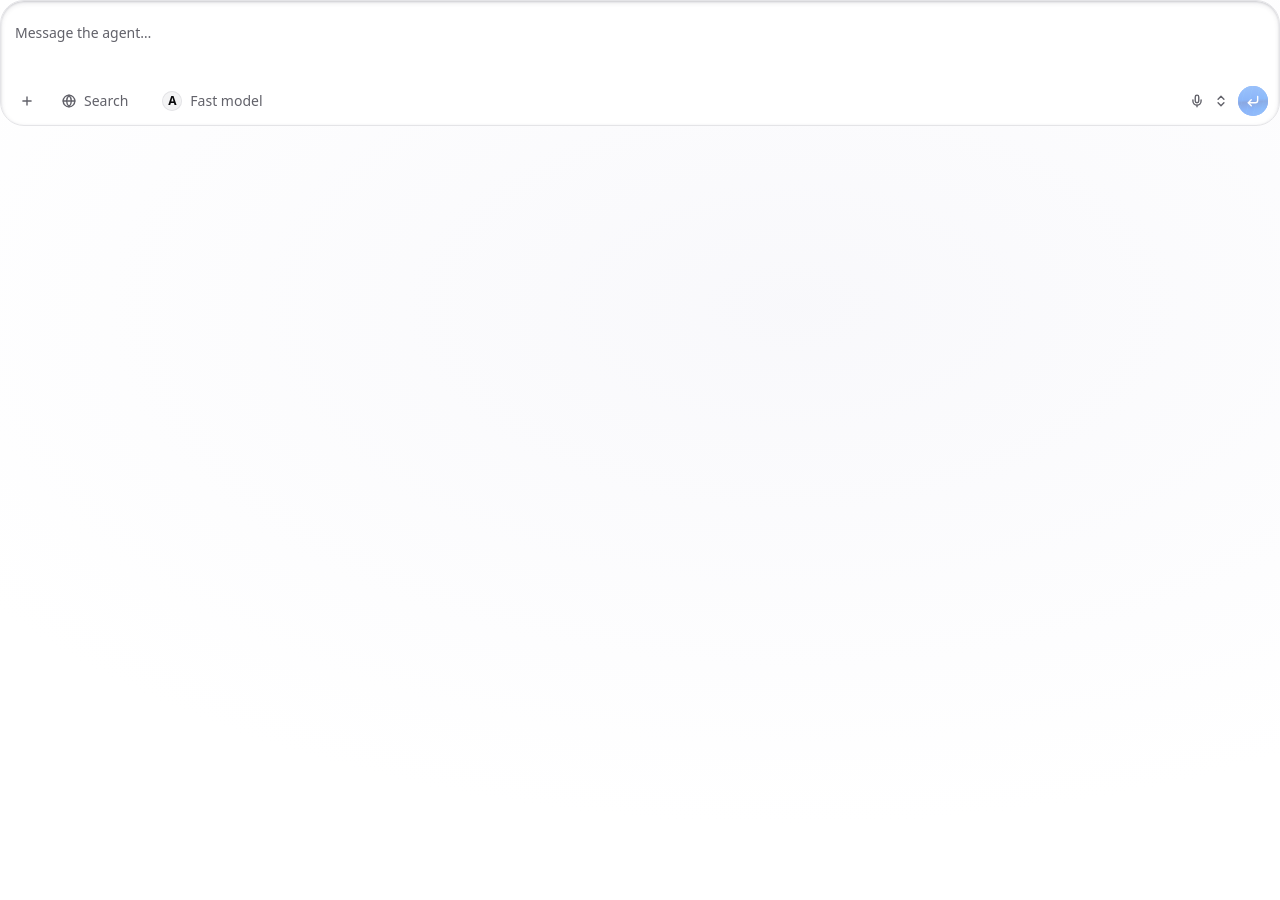
WorkspaceComposer — dictation through transport.transcribe (chosen microphone) › records from the chosen device and puts the transcript in the textarea
Click the button named "Choose microphone": (1221, 101) [1209,85,1233,117]
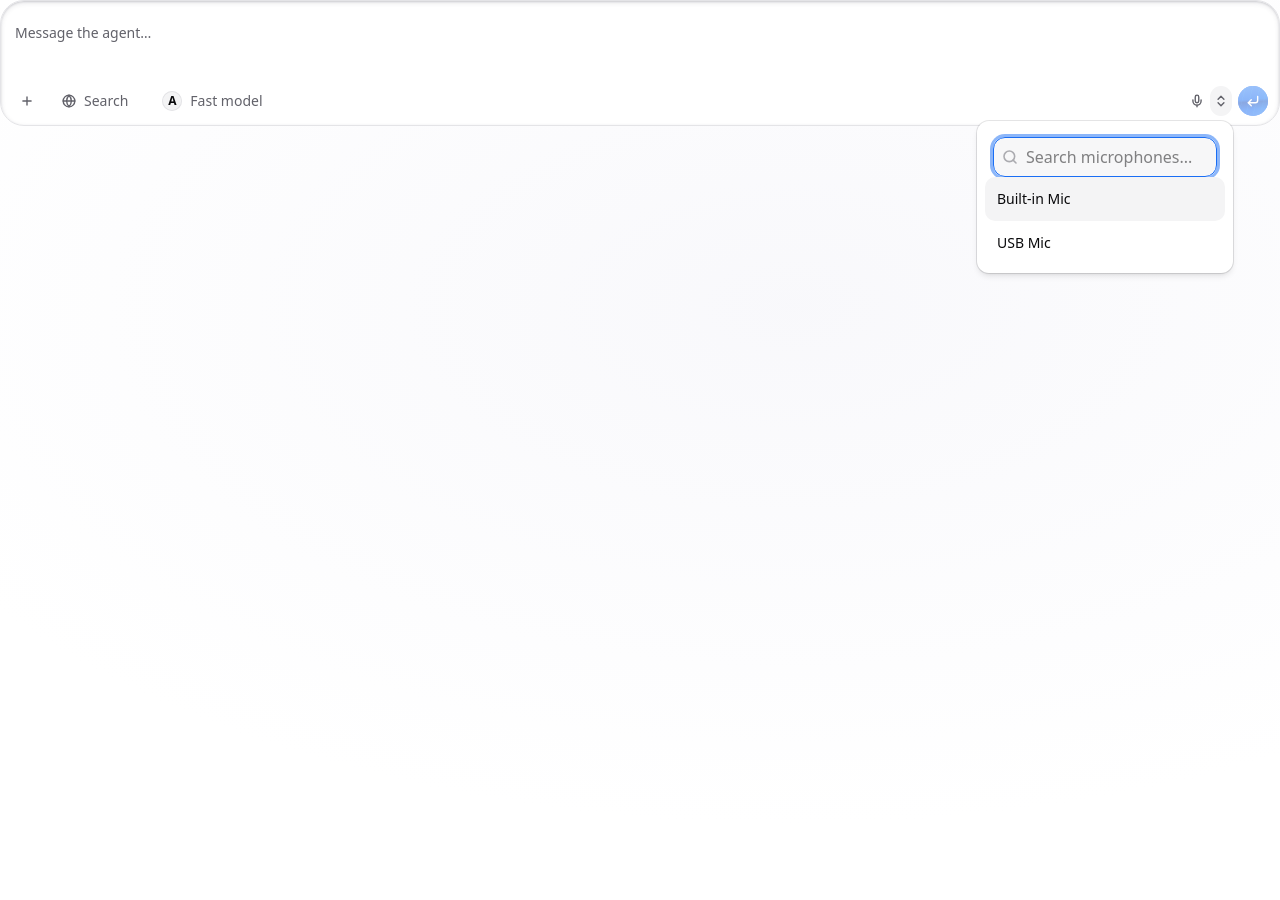
Click the option "USB Mic": (1024, 242) [997,233,1051,252]
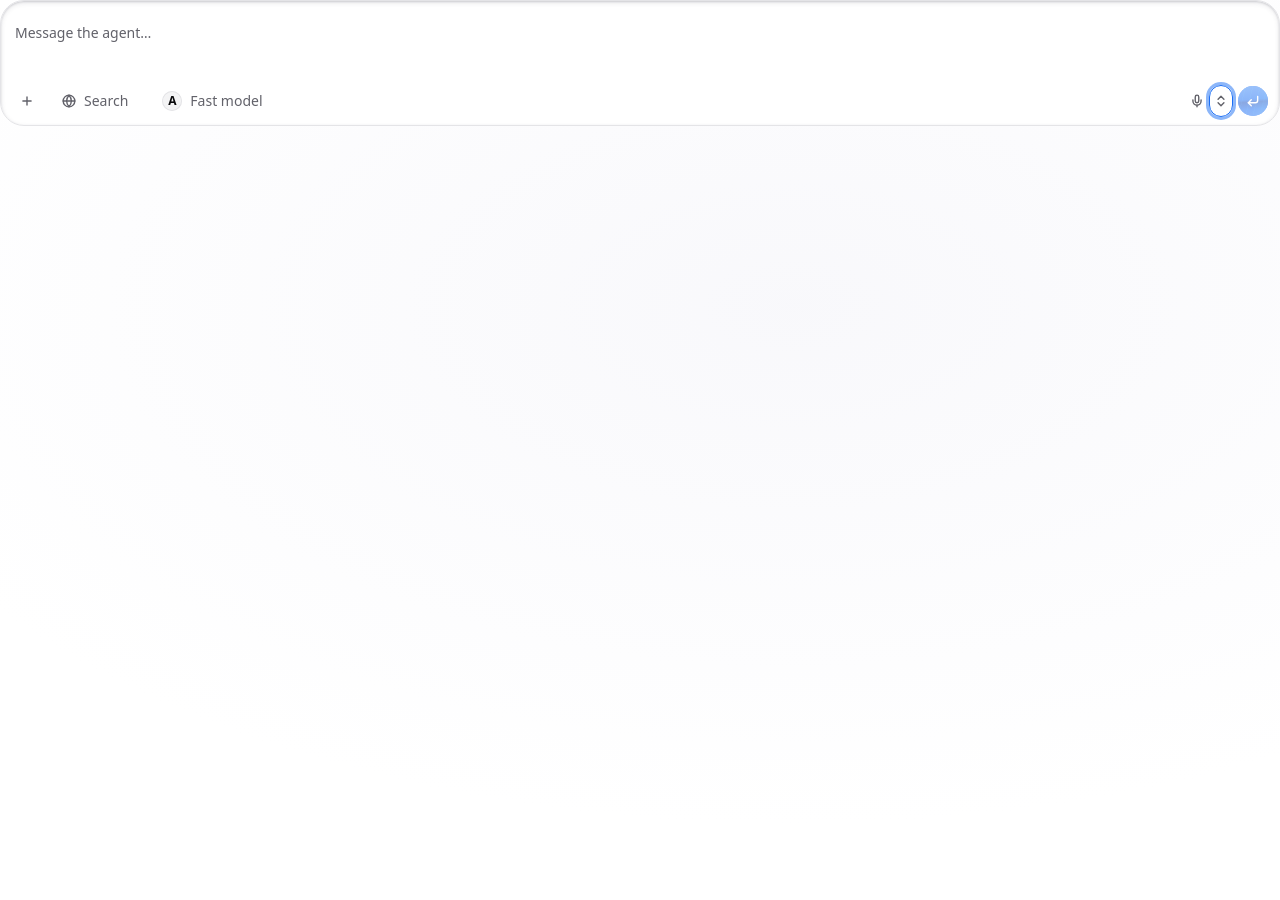
Click the button named "Start dictation": (1197, 101) [1181,85,1213,117]
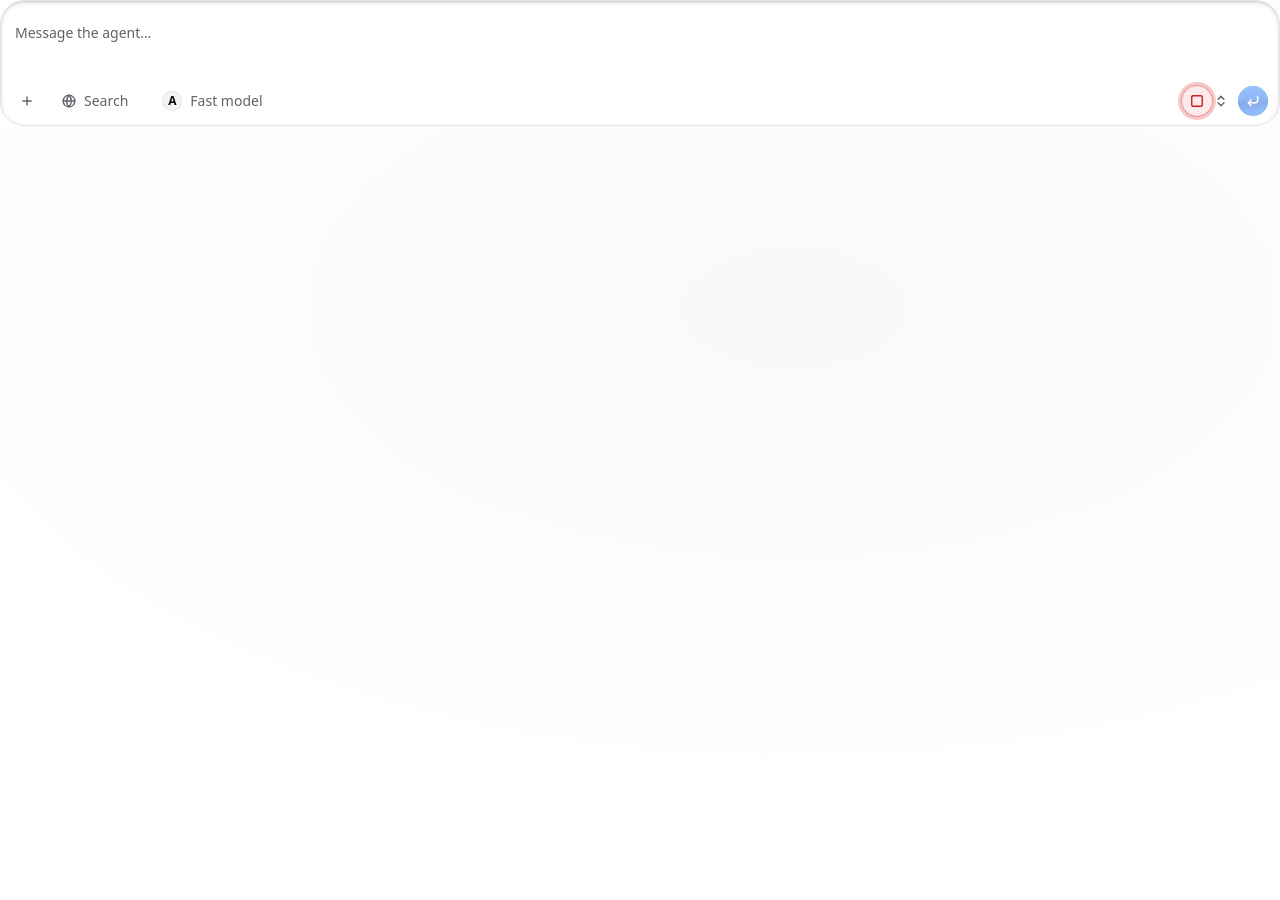
Click the button named "Stop dictation": (1197, 101) [1181,85,1213,117]
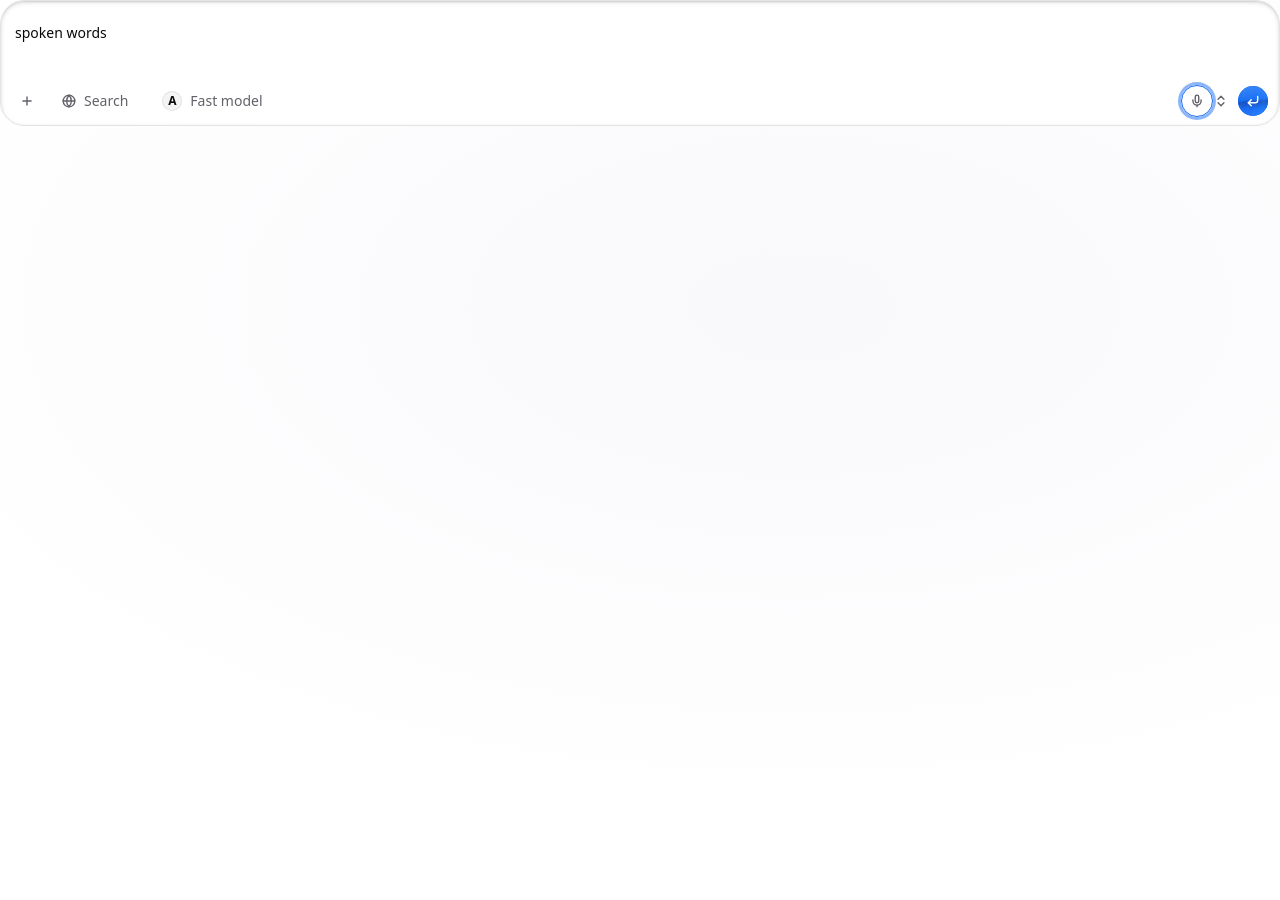
Expected: the text box holds "spoken words", [1,15,1279,79]
